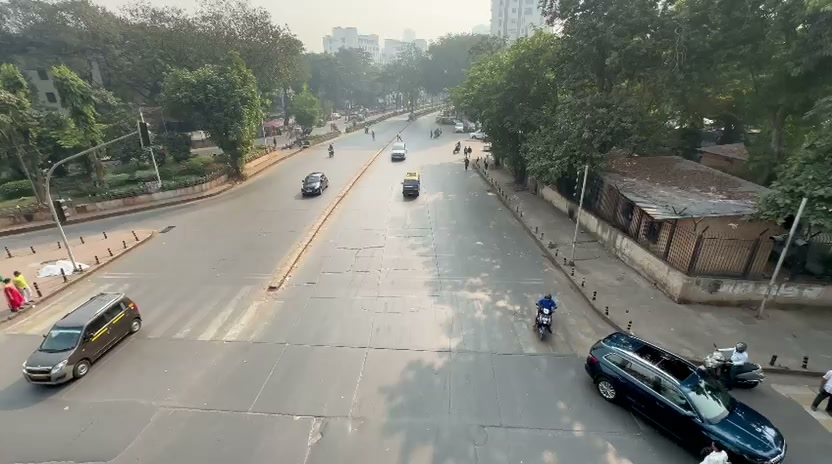car: (583, 329, 787, 462), (22, 289, 142, 385), (37, 259, 90, 281), (300, 172, 328, 197), (402, 171, 420, 200), (390, 144, 406, 162)
motorcycle: (534, 308, 554, 339)
pedestrian: (811, 369, 832, 412), (700, 443, 730, 464), (732, 341, 748, 368)
